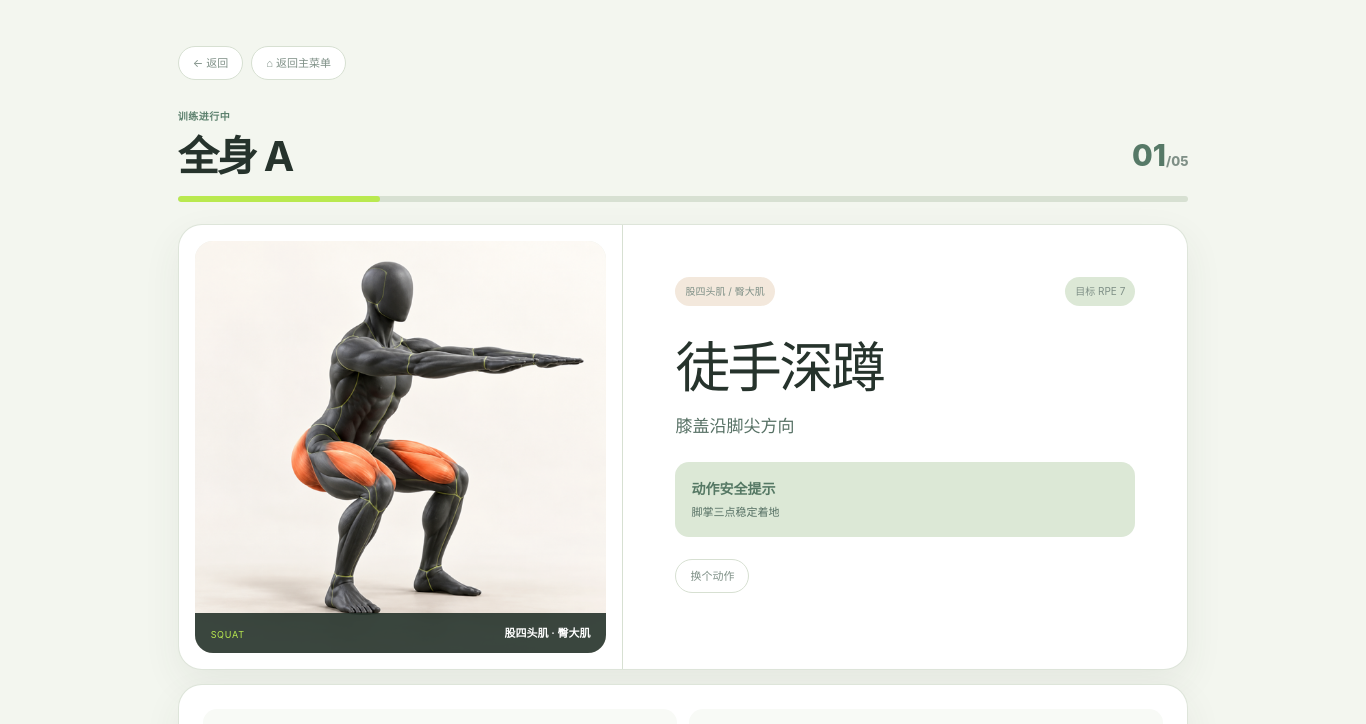
Test: WorkoutRunner › replaces the active exercise with a compatible alternative
What coordinates should you click on to do the following:
click the button "换个动作"
I would click on:
 (712, 576)
Its box is [676,559,750,593].
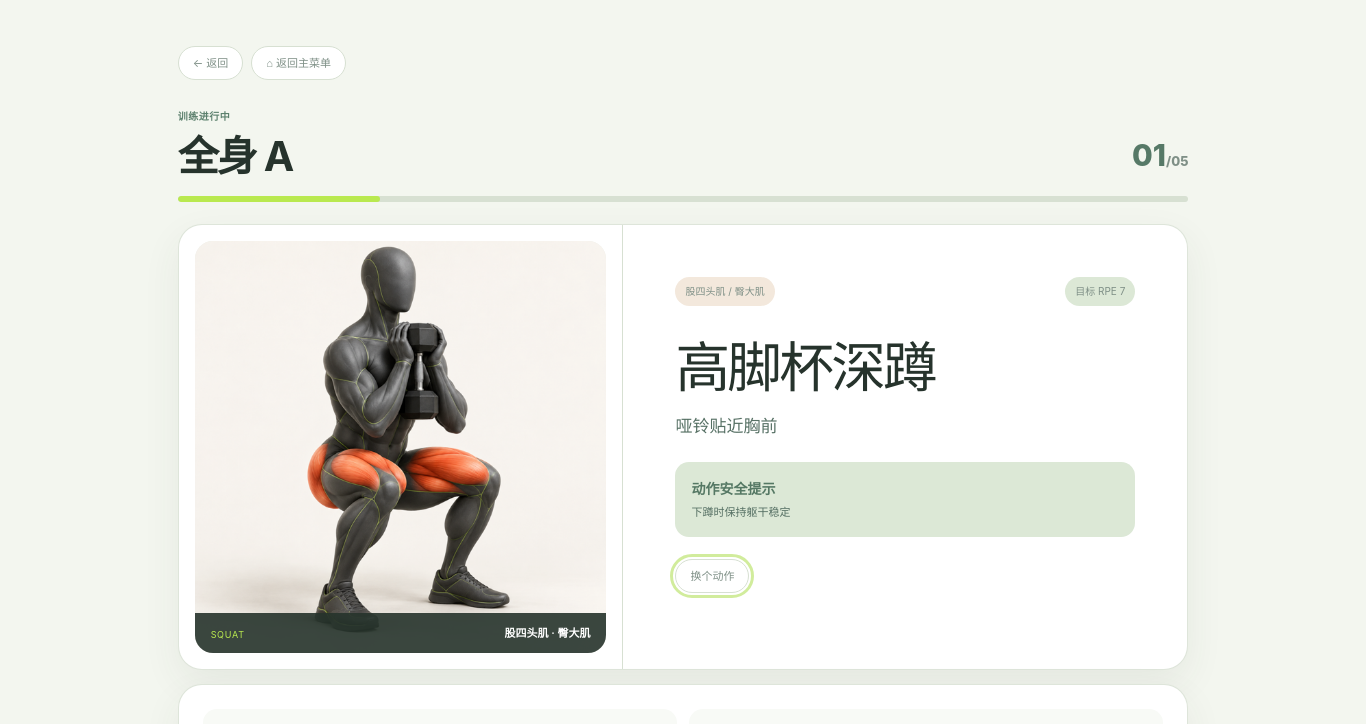
Check: the heading with test id "current-exercise-name" no longer shows "徒手深蹲"
